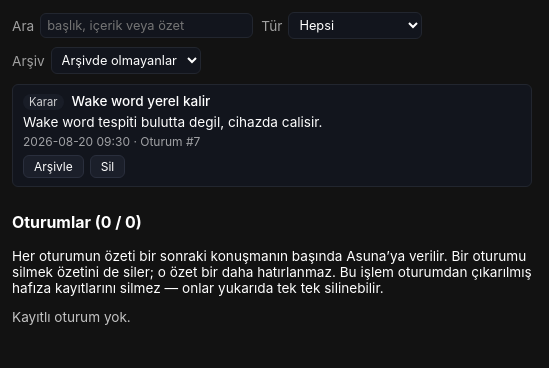
Test: MemoryView — arsivleme › hafiza kapaliyken yazma atlanmissa "yaptim" demez
Expected: the heading "Wake word yerel kalir" is shown, [72, 93, 210, 109]
Step 1. Click the button with aria-label "Arşivle: Wake word yerel kalir" → (53, 166), box [23, 155, 84, 178]
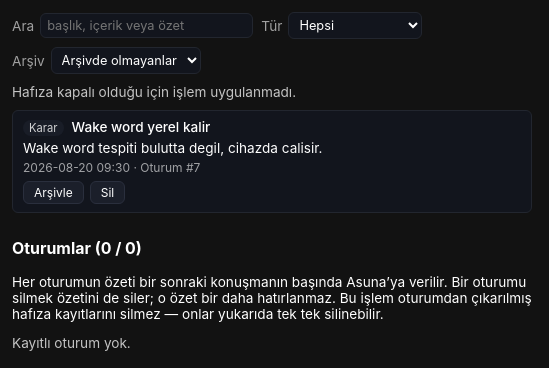
Now the text "Hafıza kapalı olduğu için işlem uygulanmadı." is shown, box [12, 84, 296, 100]
